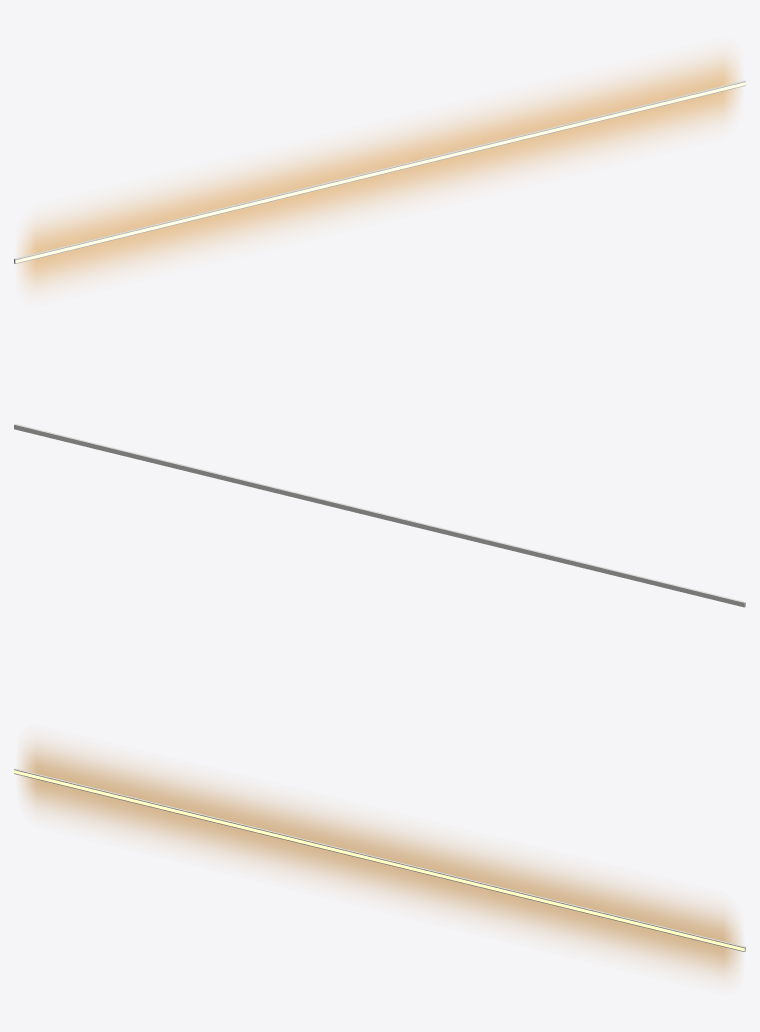
File: obj-led-strip-warm.glb
3 renders of one model, top to bottom at view 1: azimuth 30°, elevation 25°; view 2: azimuth 150°, elevation 25°; view 3: azimuth 330°, elevation 25°, orthographic.
Parts seen in each view (by area): view 1: obj-led-strip-warm; view 2: obj-led-strip-warm; view 3: obj-led-strip-warm.
Part boxes in pixels (x1,y1,x2,y2): obj-led-strip-warm: (14, 51, 745, 292); obj-led-strip-warm: (14, 424, 745, 607); obj-led-strip-warm: (14, 739, 745, 980).
Size of the model in its own units: 2 by 0.3599 by 0.0061.
3 materials, 1 textured.
